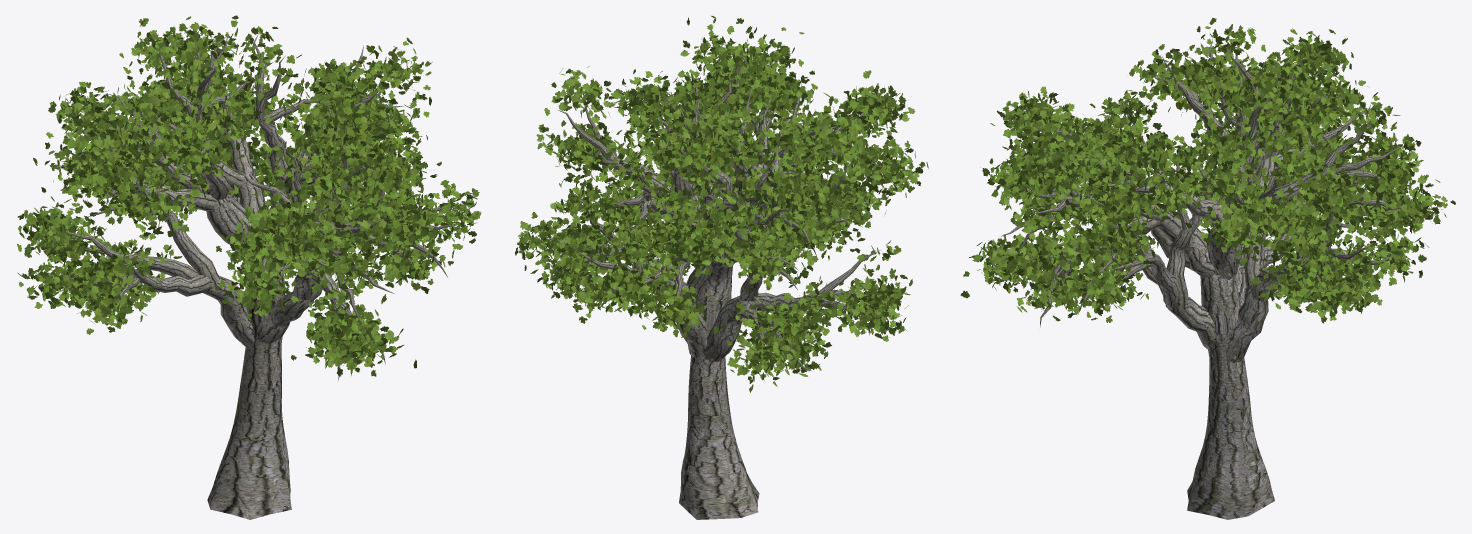
3 renders of one model, left to right at view 1: azimuth 30°, elevation 25°; view 2: azimuth 150°, elevation 25°; view 3: azimuth 270°, elevation 25°, orthographic. The views are drawn at different scales.
Parts seen in each view (by area): view 1: Oak foliage cards, Oak_EasyTree_V017_Proof; view 2: Oak foliage cards, Oak_EasyTree_V017_Proof; view 3: Oak foliage cards, Oak_EasyTree_V017_Proof.
Part boxes in pixels (x1=…): Oak foliage cards: x1=17, y1=15, x2=481, y2=376; Oak_EasyTree_V017_Proof: x1=56, y1=32, x2=459, y2=519; Oak foliage cards: x1=515, y1=16, x2=928, y2=392; Oak_EasyTree_V017_Proof: x1=546, y1=45, x2=882, y2=519; Oak foliage cards: x1=960, y1=18, x2=1455, y2=323; Oak_EasyTree_V017_Proof: x1=1001, y1=37, x2=1402, y2=519.
Size of the model in its own units: 7.07 by 7.78 by 7.86.
2 materials, 2 textured.
